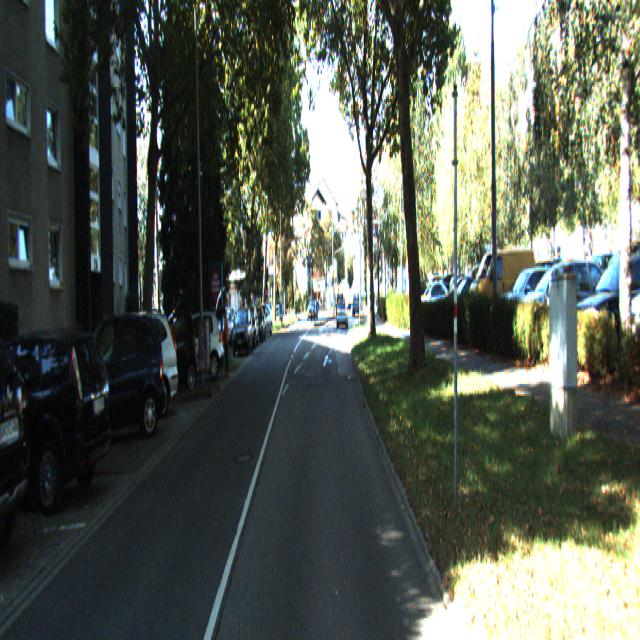Car: (0, 319, 113, 519), (54, 308, 166, 453), (85, 306, 179, 439), (0, 301, 34, 559), (167, 307, 225, 382), (152, 309, 196, 389), (232, 306, 253, 359)
